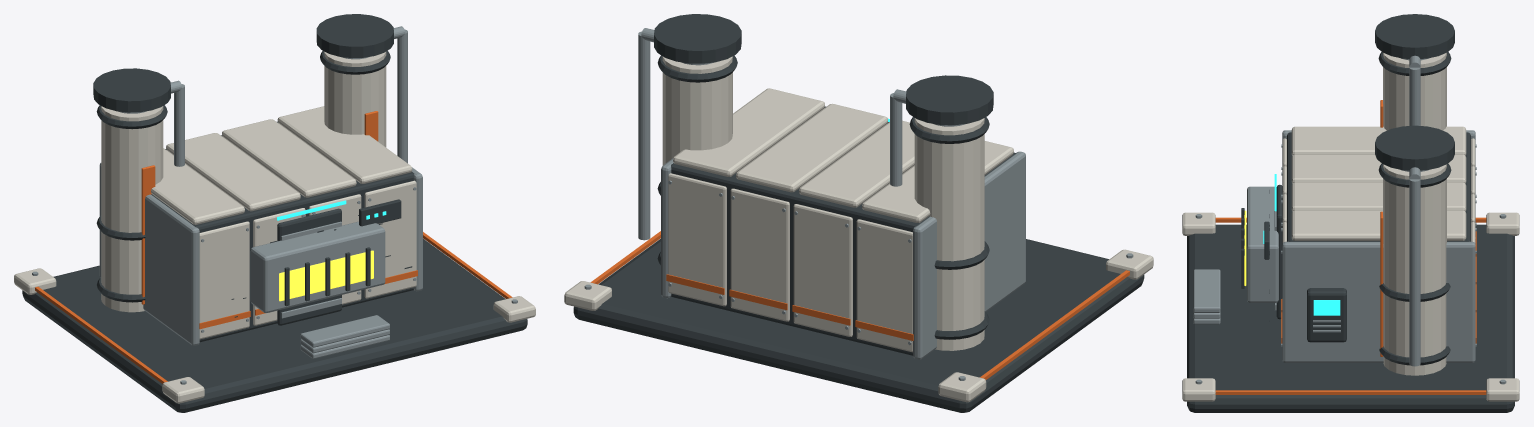
File: SM_RareMetalRefinery_Body.fbx
3 views of the same model, side by side, from view 1: azimuth 30°, elevation 25°; view 2: azimuth 150°, elevation 25°; view 3: azimuth 270°, elevation 25° (orthographic). The views are drawn at different scales.
Parts seen in each view (by area): view 1: SM_RareMetalRefinery_Body; view 2: SM_RareMetalRefinery_Body; view 3: SM_RareMetalRefinery_Body.
Boxes of the visible parts, bbox=[...] form: SM_RareMetalRefinery_Body: bbox=[14, 14, 535, 412]; SM_RareMetalRefinery_Body: bbox=[564, 14, 1153, 412]; SM_RareMetalRefinery_Body: bbox=[1182, 14, 1519, 412].
Size of the model in its own units: 532 by 422 by 333.
